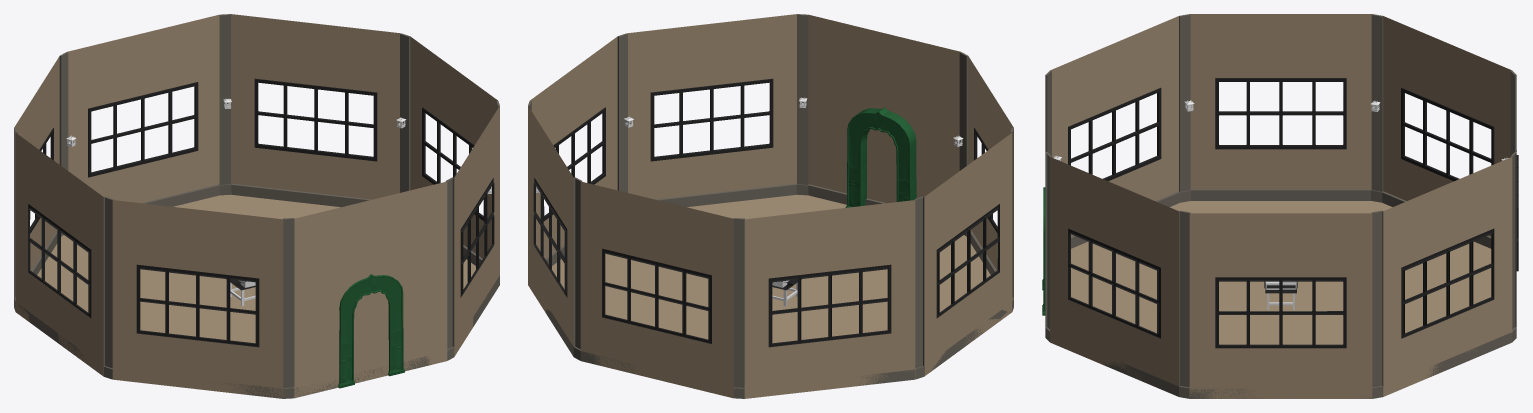
The model's file is 2024_SenseXR_MiddleScene.fbx.
The picture shows the model from 3 angles, left to right: view 1: azimuth 30°, elevation 25°; view 2: azimuth 150°, elevation 25°; view 3: azimuth 270°, elevation 25°; orthographic projection. The views are drawn at different scales.
Visible parts, largest first — view 1: Walls, Floor, GlazedArchLowPoly; view 2: Walls, Floor, GlazedArchLowPoly; view 3: Walls, Floor.
Part boxes in pixels (left/top/right/bottom): Walls: left=14, top=14, right=499, bottom=398; Floor: left=14, top=183, right=499, bottom=398; GlazedArchLowPoly: left=338, top=274, right=404, bottom=388; Walls: left=528, top=14, right=1013, bottom=398; Floor: left=545, top=183, right=1013, bottom=398; GlazedArchLowPoly: left=845, top=107, right=916, bottom=207; Walls: left=1045, top=14, right=1518, bottom=398; Floor: left=1045, top=189, right=1516, bottom=398.
Size of the model in its own units: 1458 by 629 by 1462.
